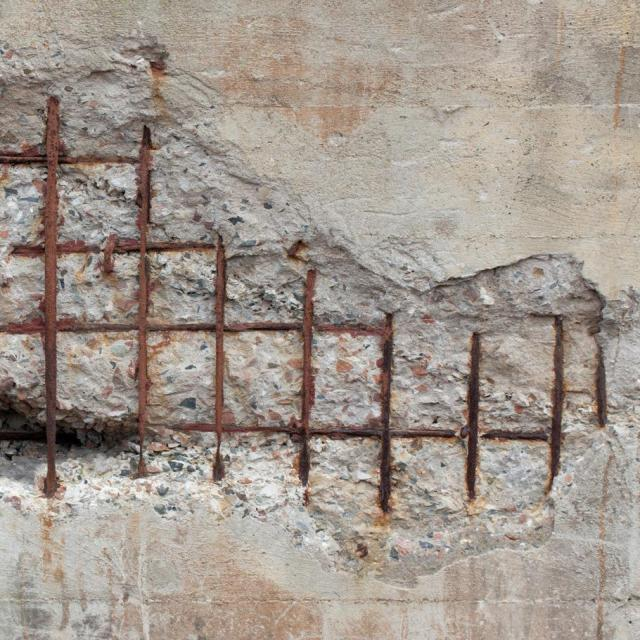Rebar: (0, 35, 640, 588)
